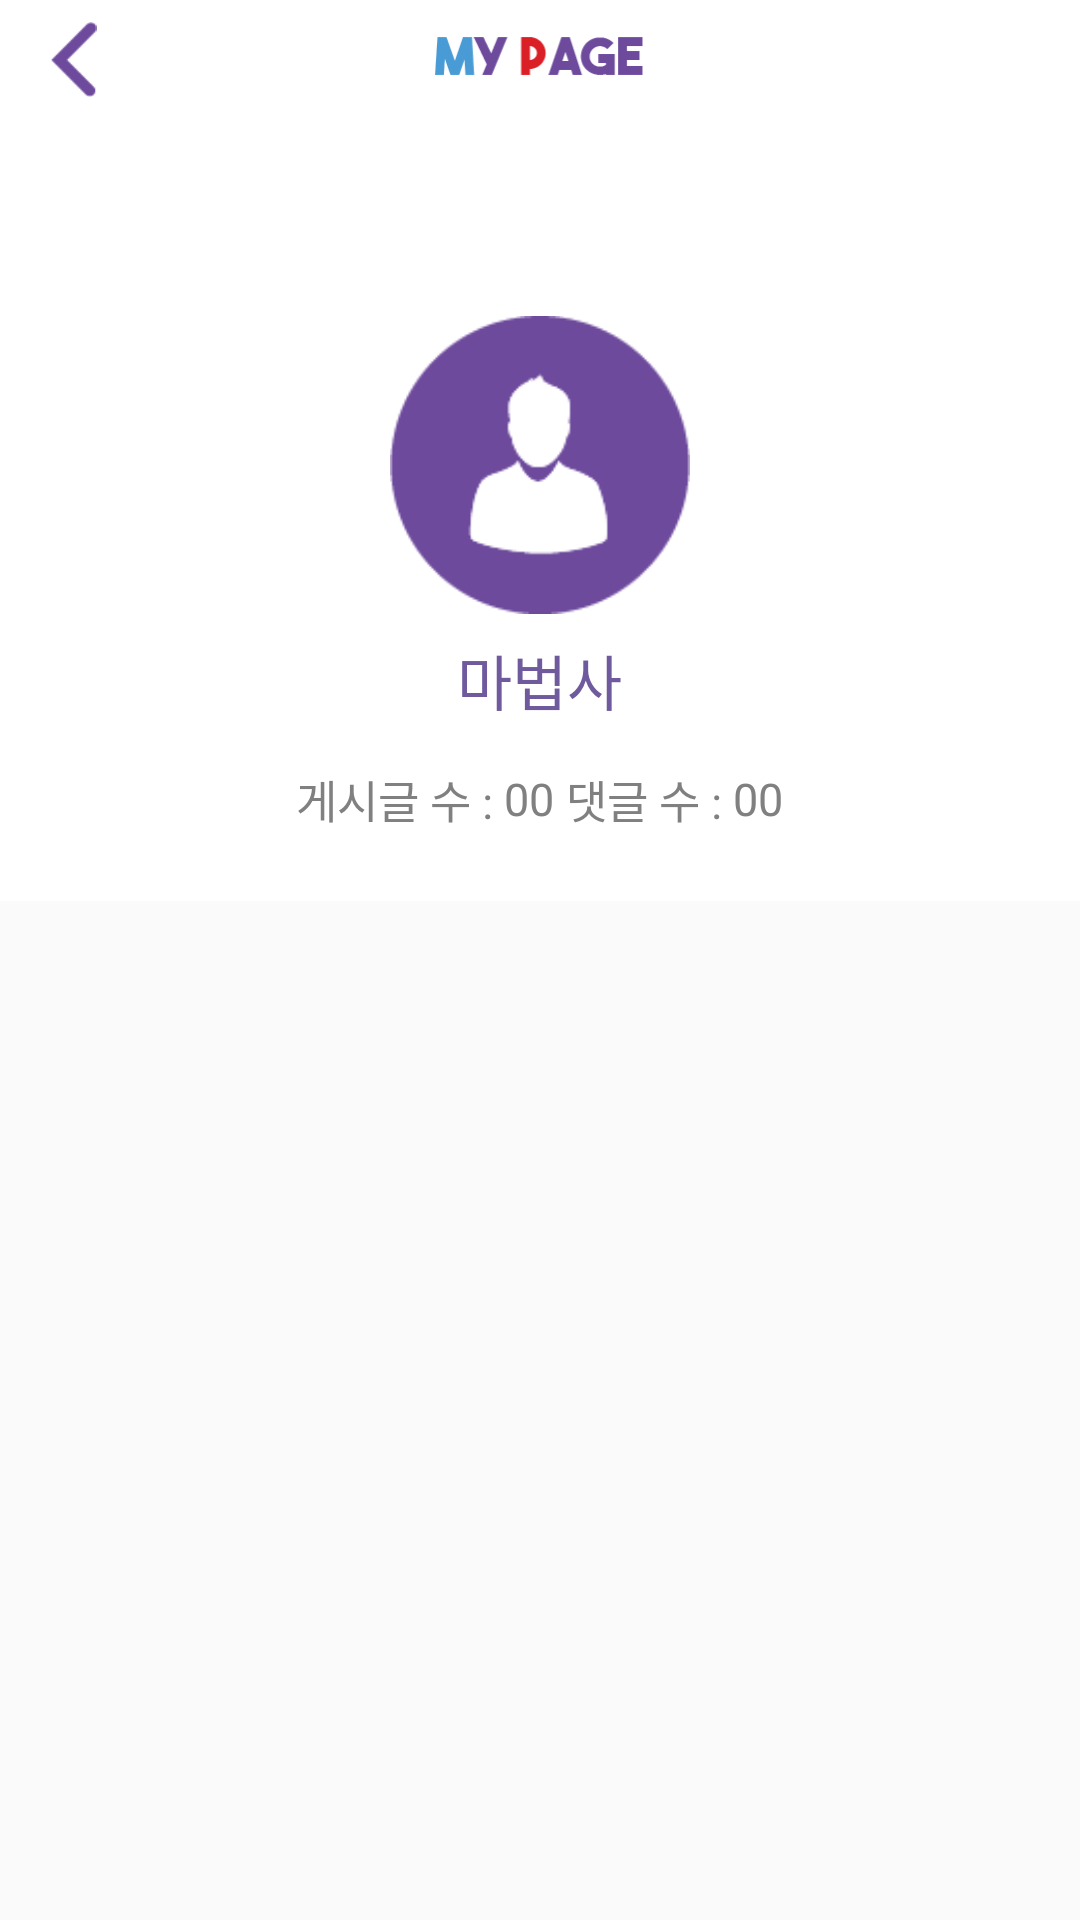

Icon bounding boxes for this 1080 x 1920 phone screenshot, format [x1, y1, x2, y2]:
back: [51, 22, 97, 97]
user: [390, 316, 690, 614]
